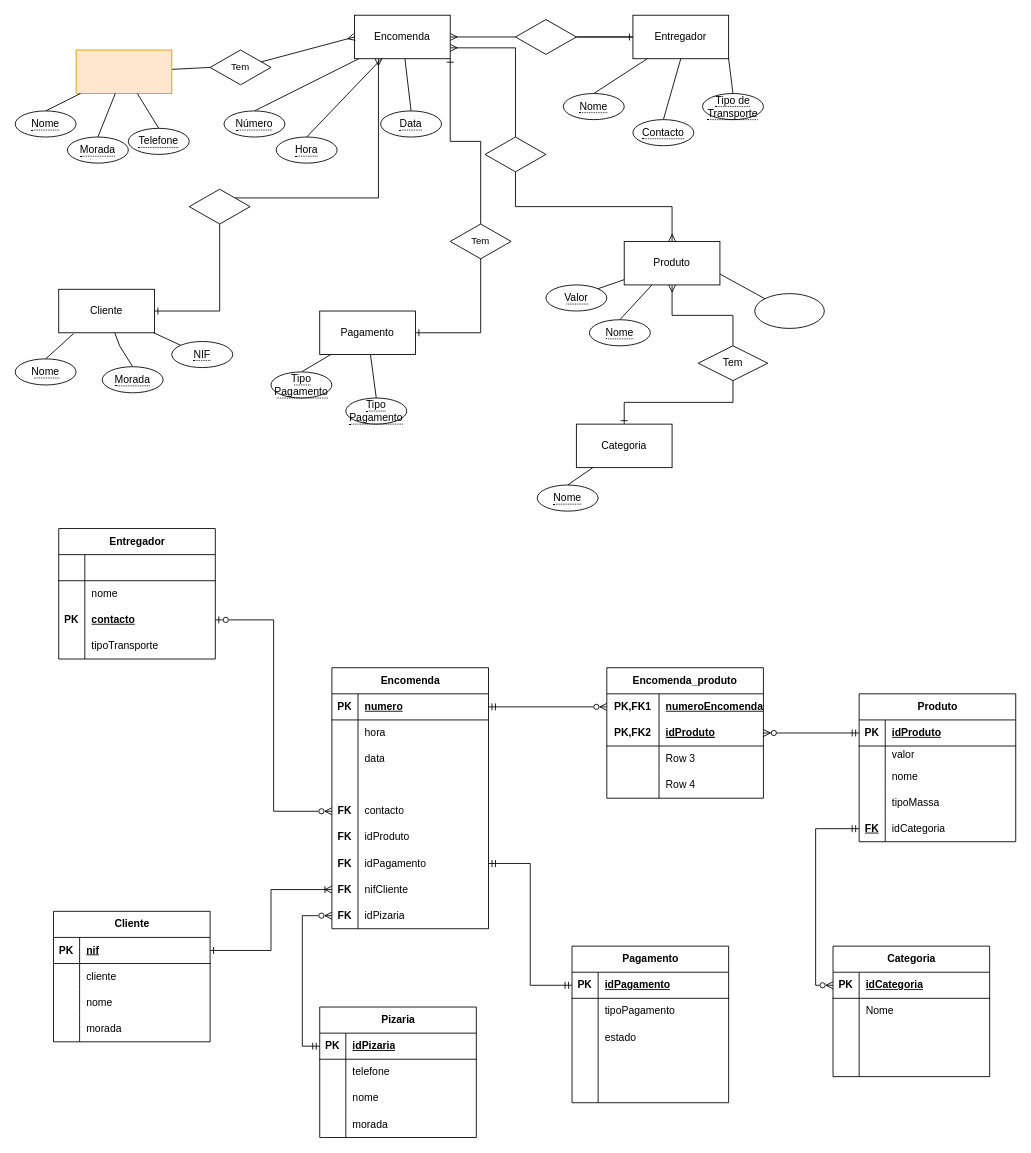
Some shapes in this 1031 by 1153 pixel diagram are drawn without their labels. The shapes that lost their labels are listed below. From the top down, each one's centre as x and y in pixels, then its label:
At [545,36]: "Realizada".
At [123,71]: "Pizzaria".
At [515,154]: "Possui".
At [219,206]: "É feita".
At [789,310]: "Tipo de Massa".
